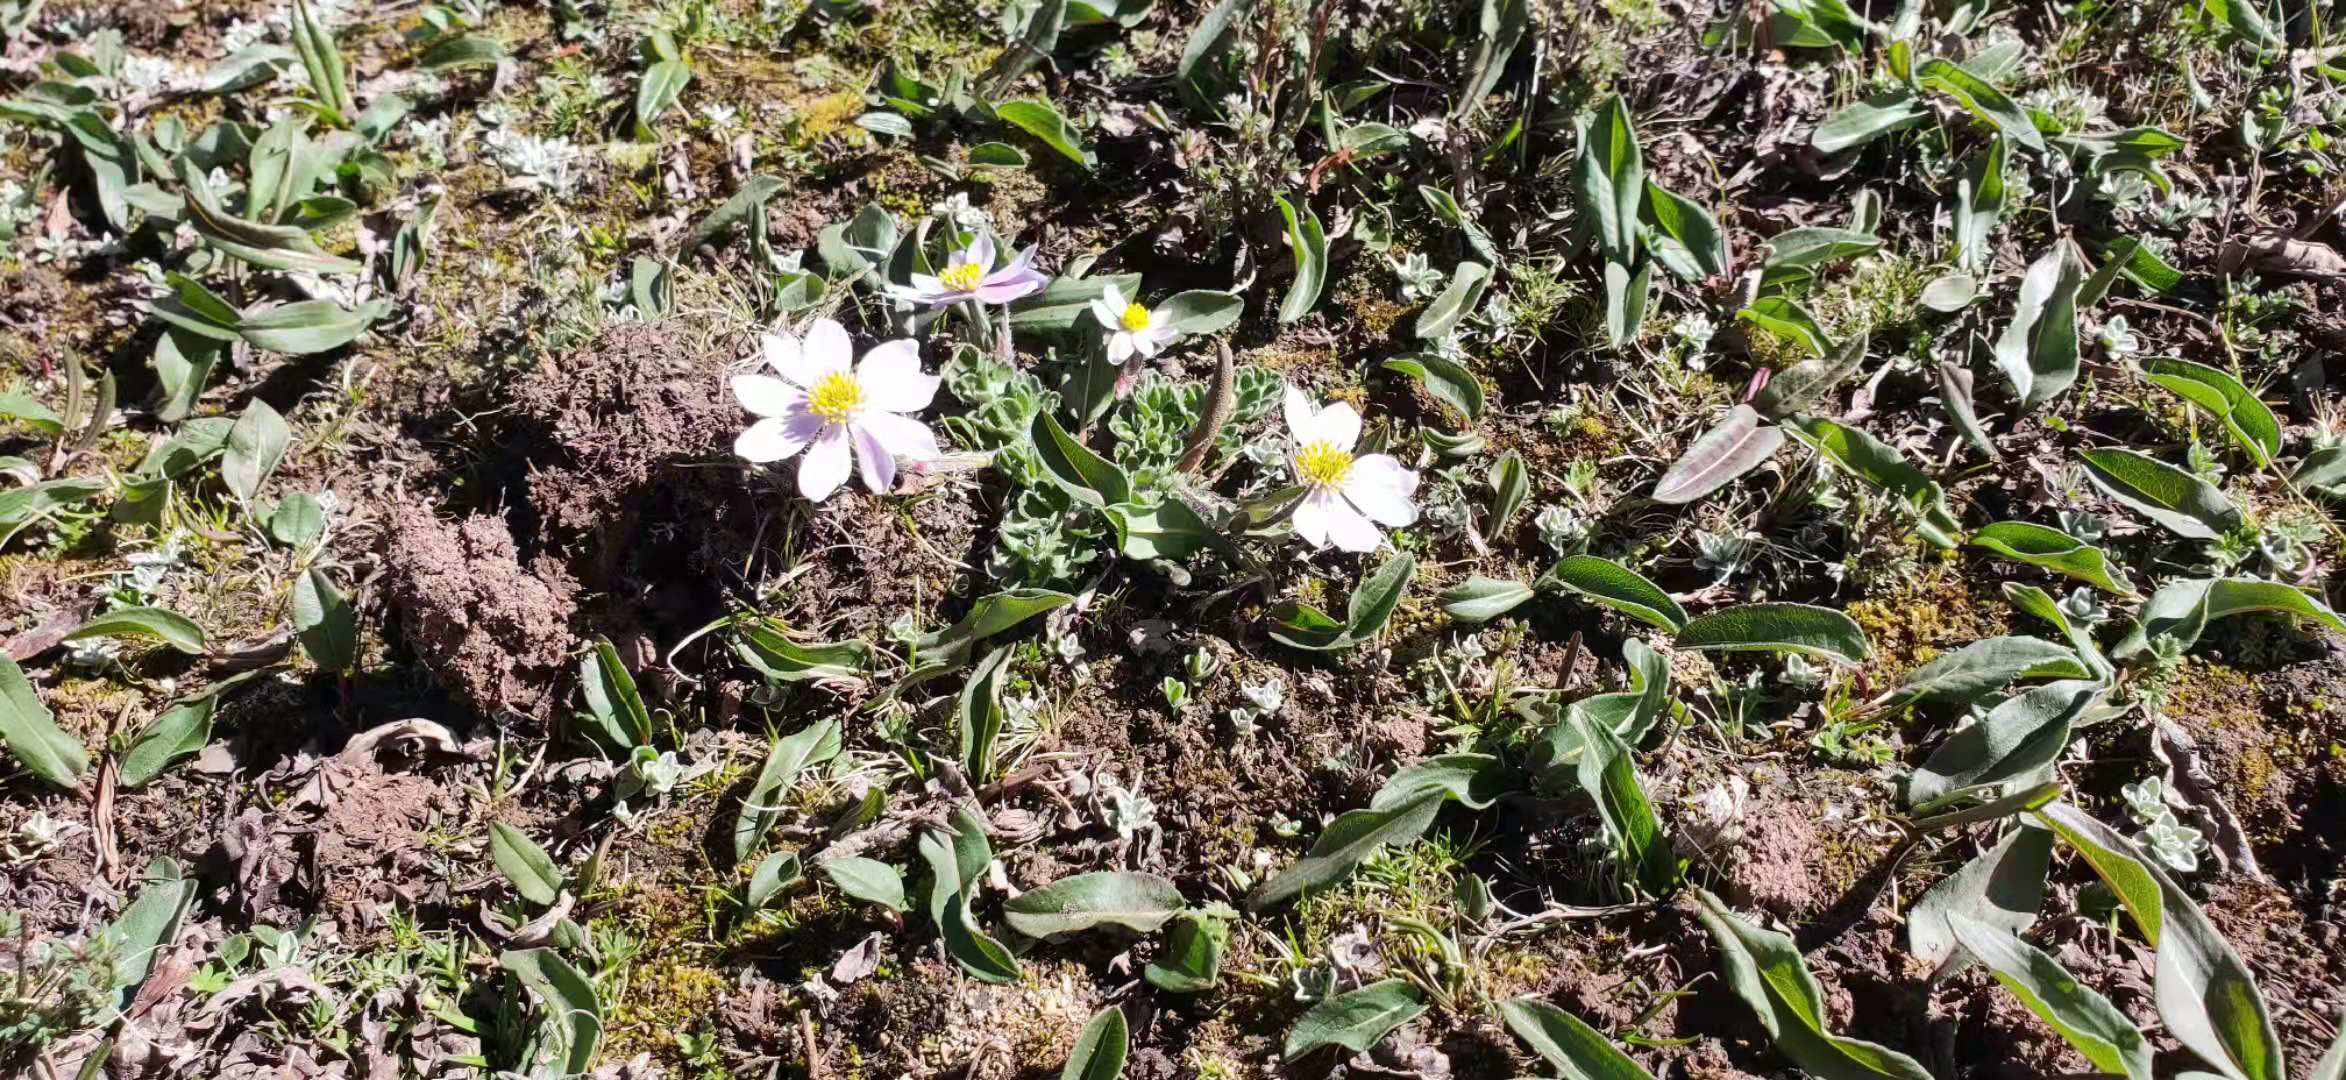cpf: (1174, 326, 1233, 473)
